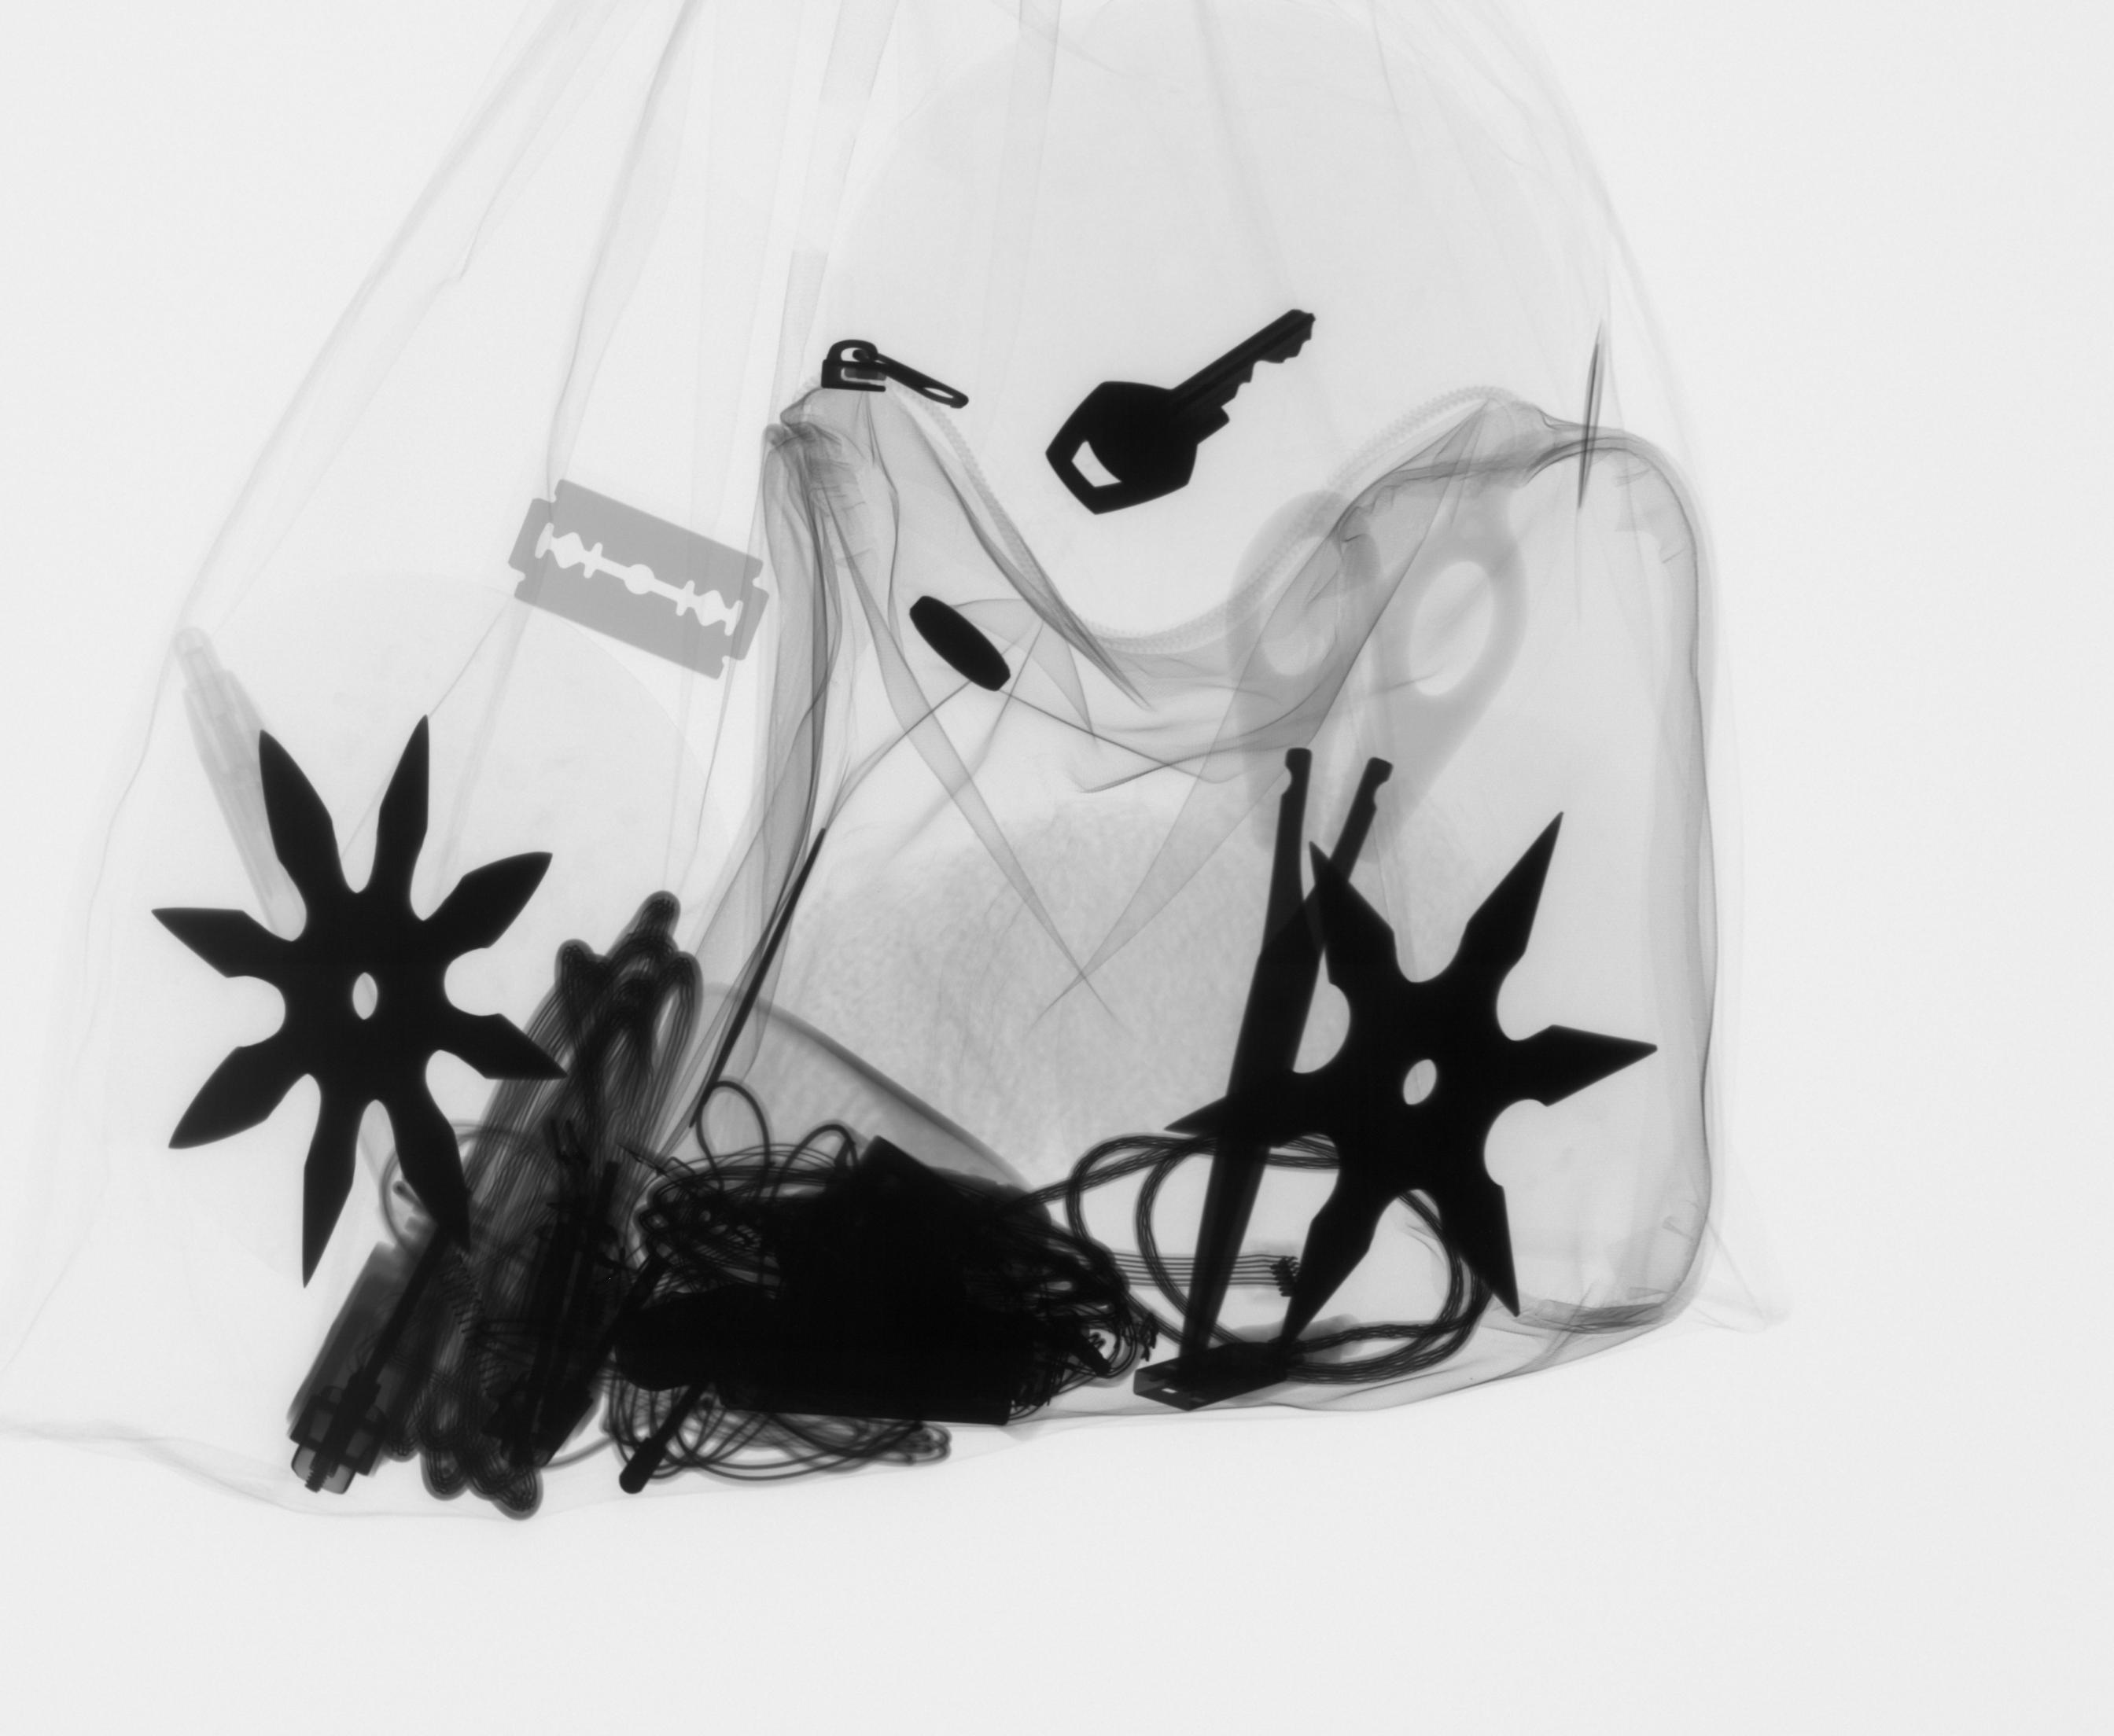RazorBlade: (499, 474, 774, 688), (1570, 332, 1612, 509)
Shuriken: (1155, 802, 1666, 1367), (144, 702, 574, 1297)
